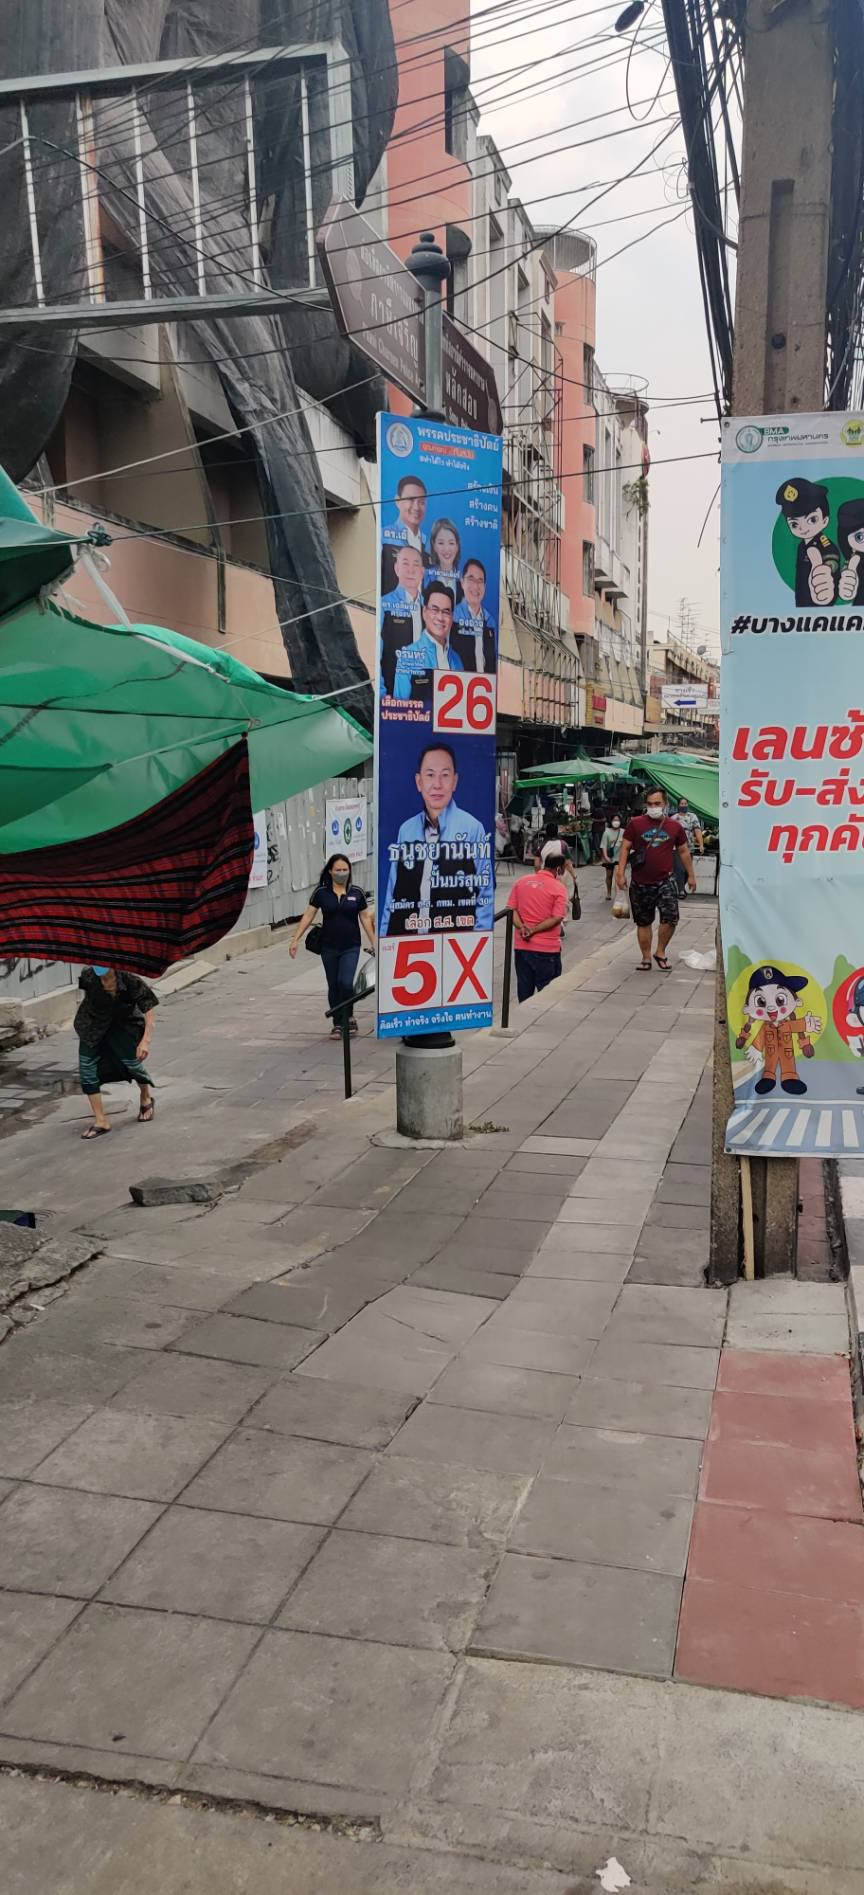Banner: (346, 424, 505, 1026)
